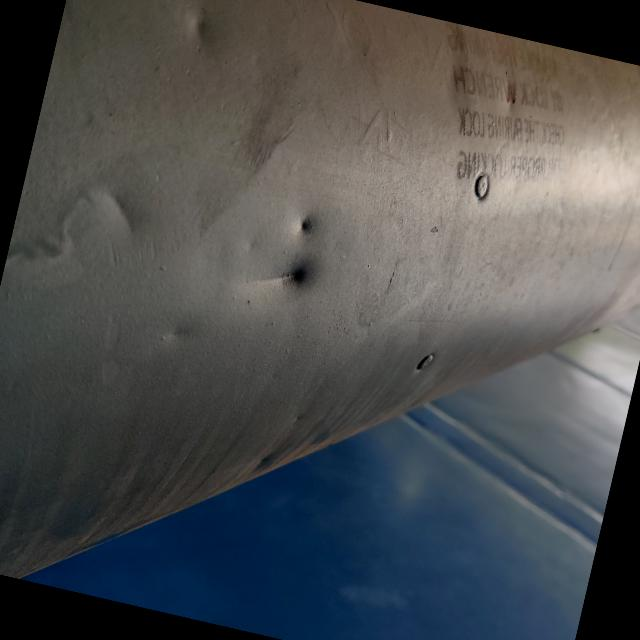dent: (208, 234, 328, 316), (74, 174, 166, 262), (146, 0, 236, 75), (274, 190, 334, 254)
